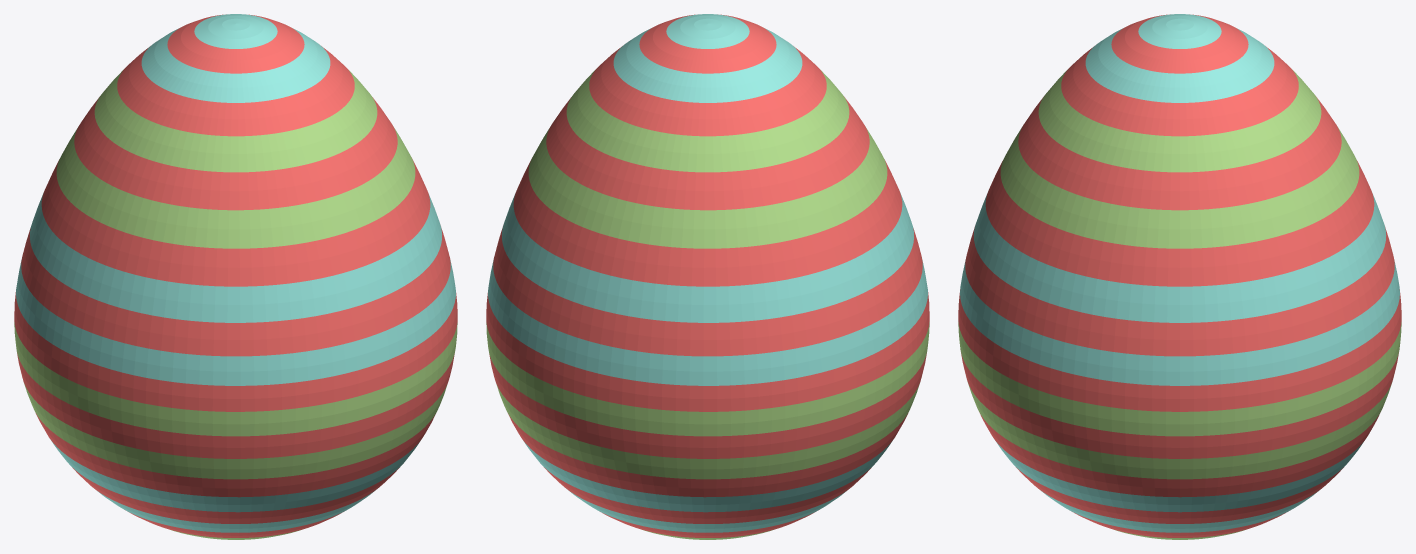
The model's file is redegg.glb.
3 renders of one model, left to right at view 1: azimuth 30°, elevation 25°; view 2: azimuth 150°, elevation 25°; view 3: azimuth 270°, elevation 25°, orthographic.
Visible parts, largest first — view 1: Sphere; view 2: Sphere; view 3: Sphere.
Part boxes in pixels (x1,y1,x2,y2): Sphere: [14, 14, 457, 539]; Sphere: [486, 14, 929, 539]; Sphere: [958, 14, 1401, 539].
Size of the model in its own units: 2 by 2.46 by 2.
